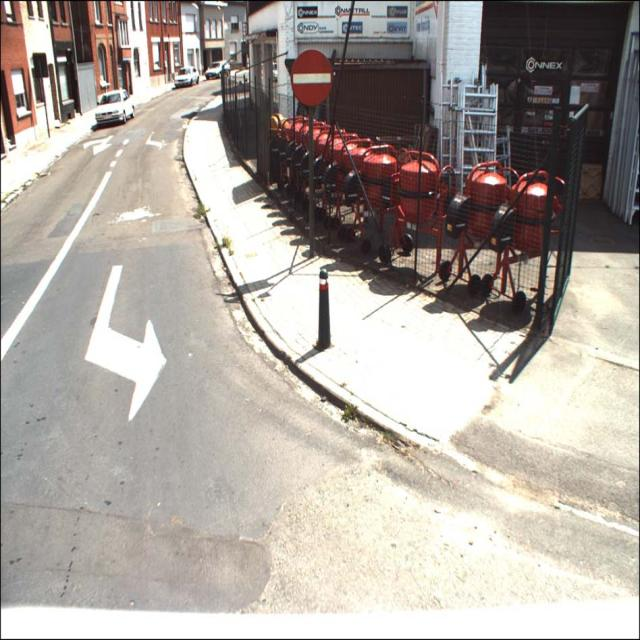girisyok: (291, 49, 333, 106)
